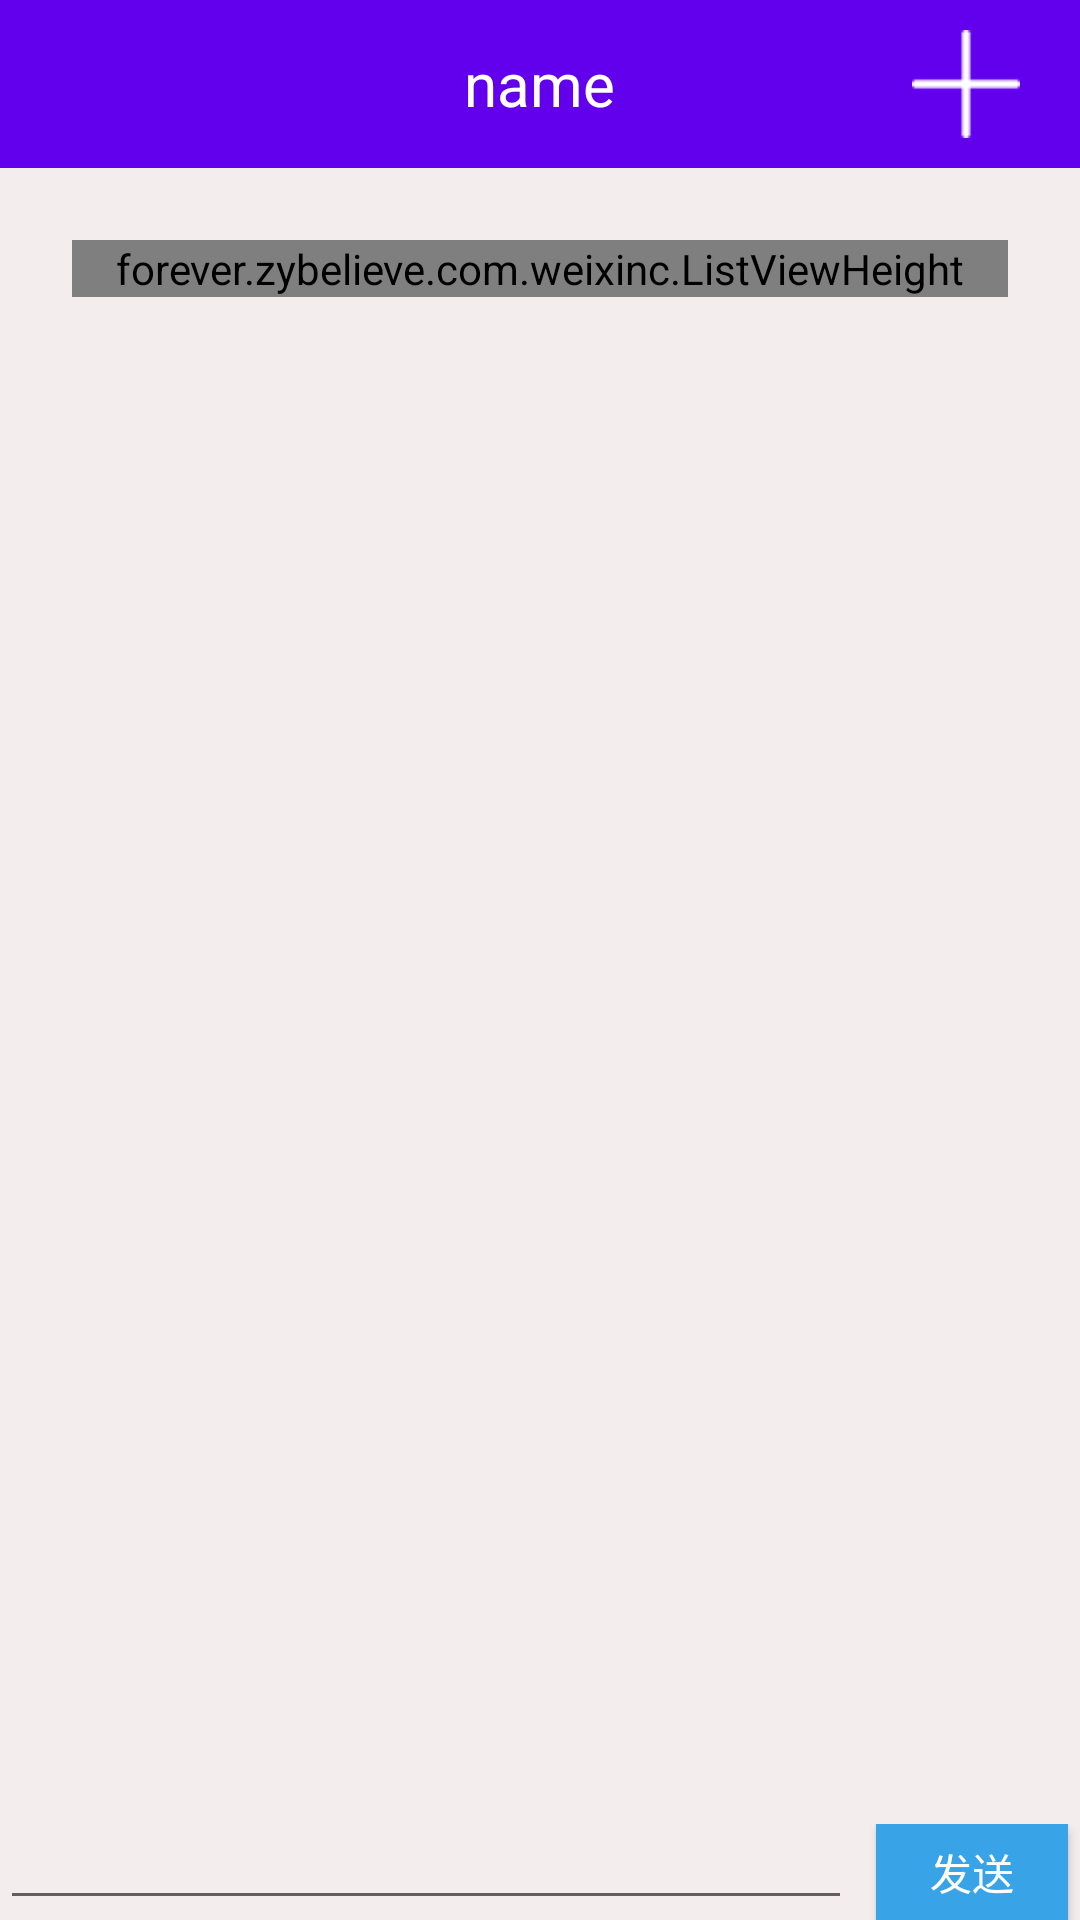

Screen size 1080x1920. Icon name, then its center in pixels as (x=x, y=y):
add: (x=966, y=84)
